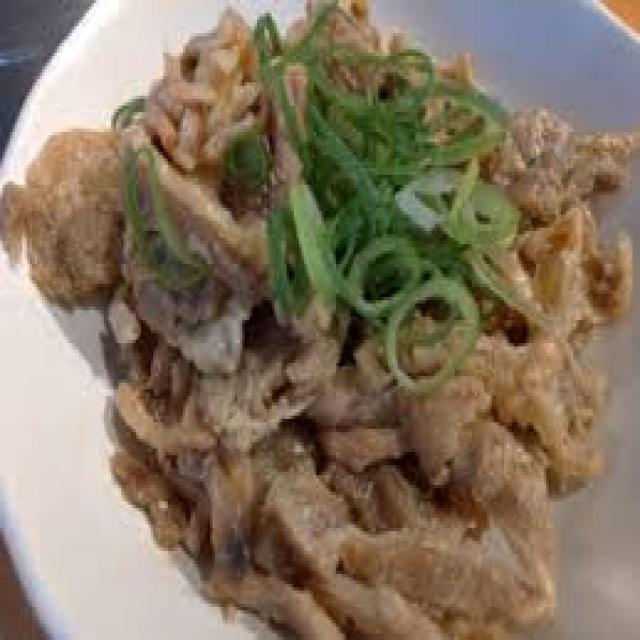organic waste: (0, 0, 630, 637), (249, 7, 506, 215), (0, 122, 119, 300), (386, 155, 526, 254), (121, 135, 210, 284), (383, 267, 477, 383), (284, 185, 339, 300), (343, 231, 422, 303), (260, 192, 296, 324)
